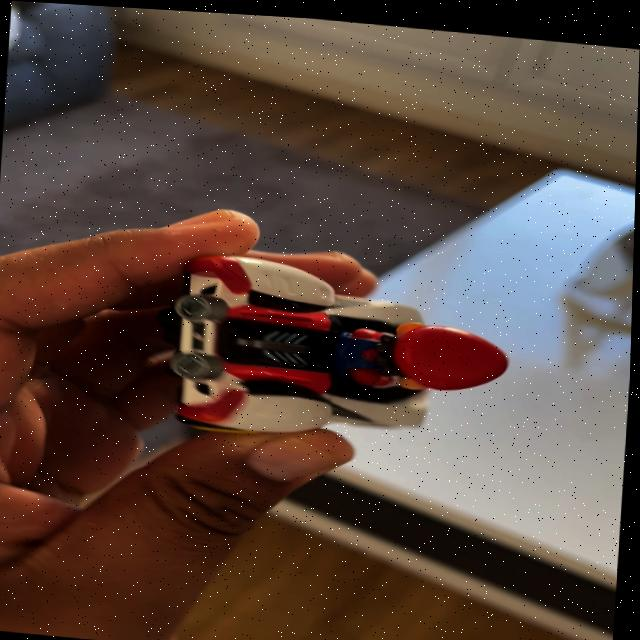mario: (168, 242, 521, 460)
